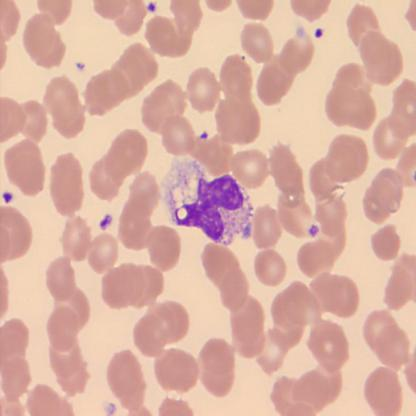Metamyelocyte: (160, 156, 254, 250)
